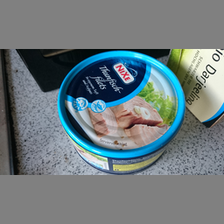fish: (57, 51, 187, 175)
